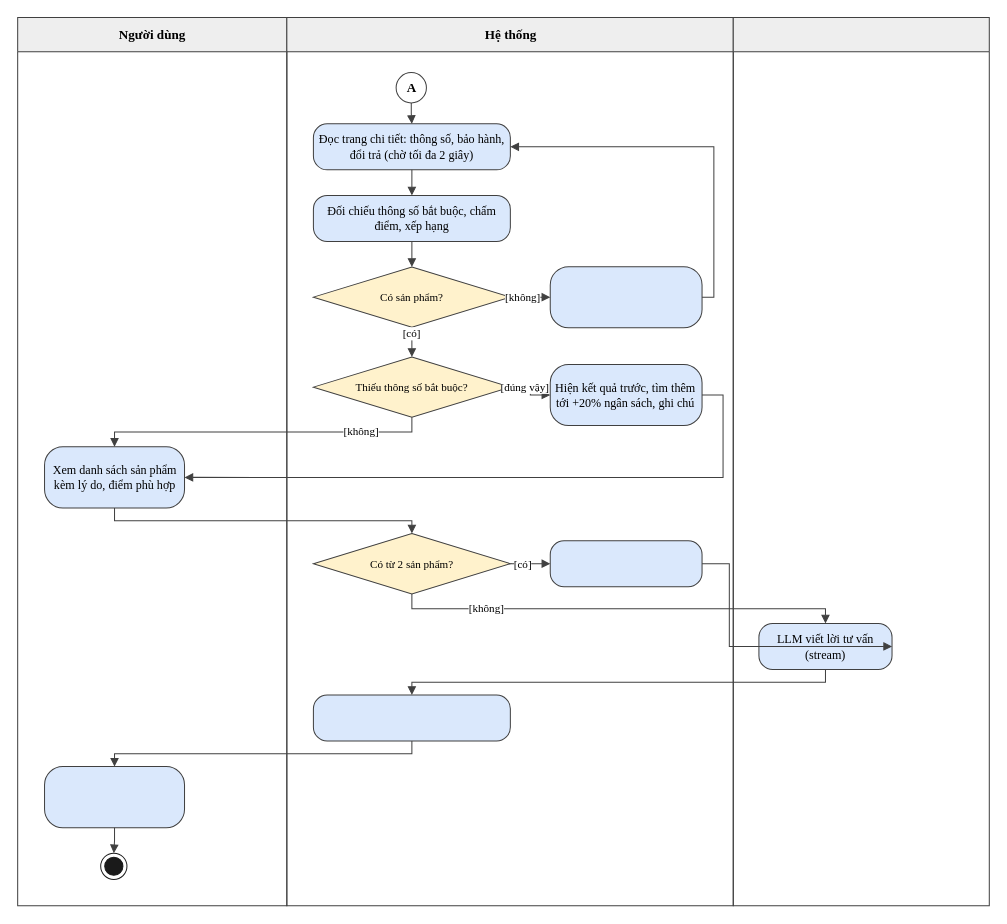
Image size: 1007x924. Some labels were removed from this diagram. Each missing label, with the box of its shape:
Dịch vụ ngoài (LLM, sàn TMĐT): (732, 16, 989, 906)
Lưu lượt hội thoại, sinh câu hỏi gợi ý: (312, 694, 510, 741)
Tool so sánh dựng bảng so sánh: (549, 540, 702, 587)
Tìm lại với tiêu chí nới lỏng: bỏ thông số → +20% ngân sách → bỏ hãng: (549, 266, 702, 328)
Đọc lời tư vấn, bảng so sánh, ghi chú dữ liệu và câu hỏi gợi ý: (44, 766, 185, 828)
